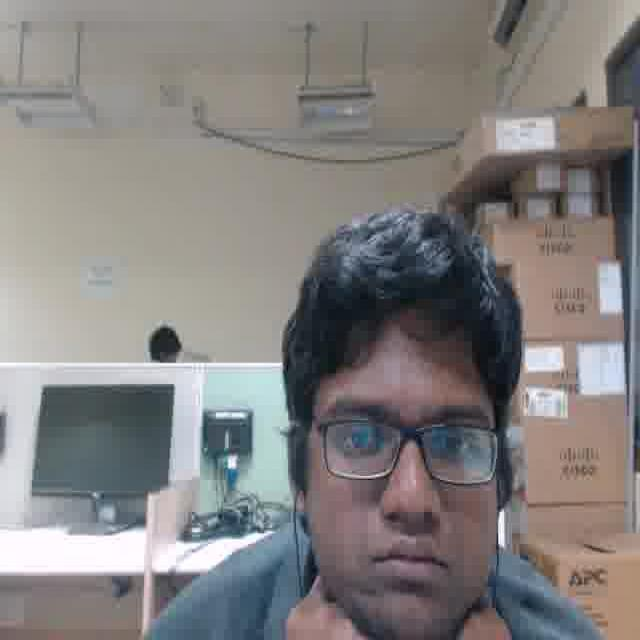Engaged: (307, 324, 495, 632)
